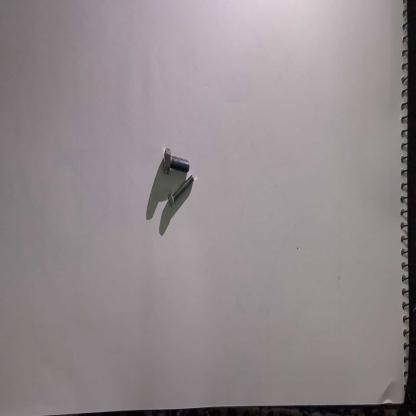Bolts: (157, 138, 192, 177), (167, 174, 198, 209)
